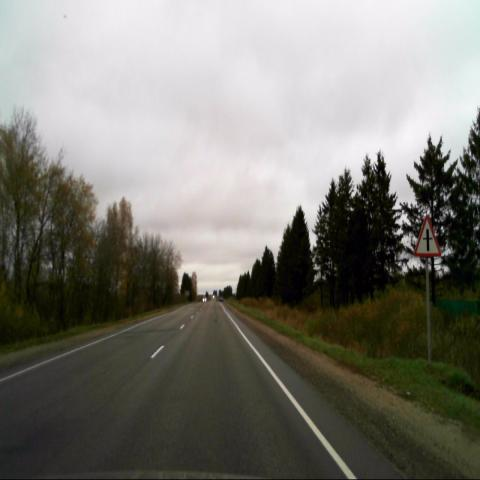2_3: (414, 212, 442, 256)
